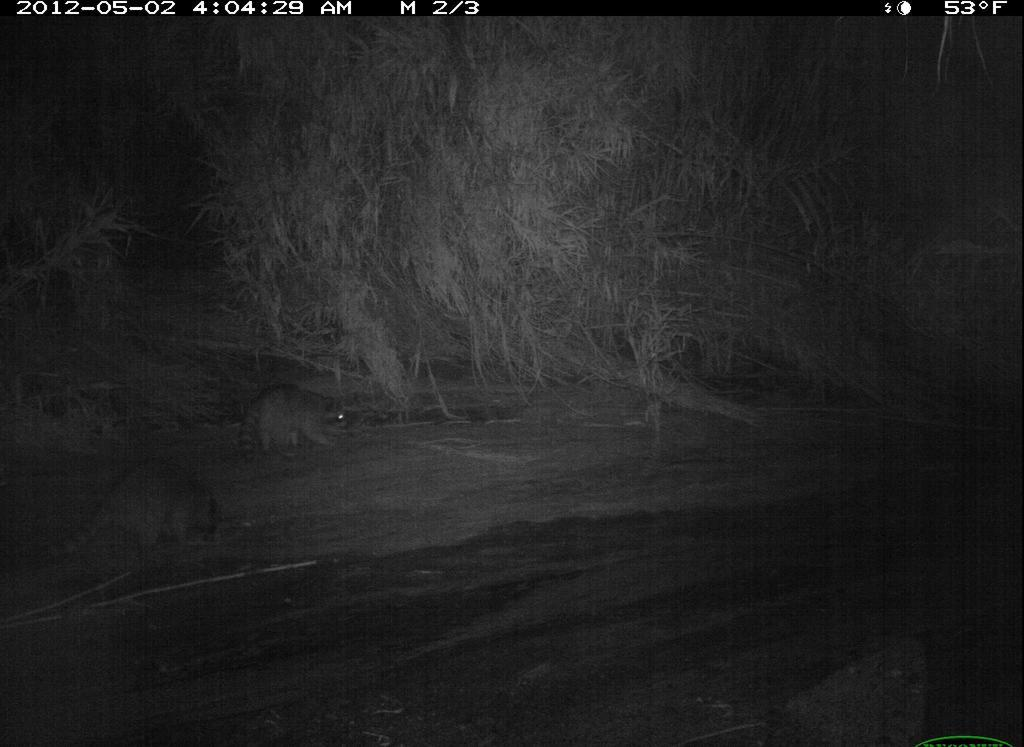raccoon: (36, 451, 231, 583), (236, 373, 355, 472)
